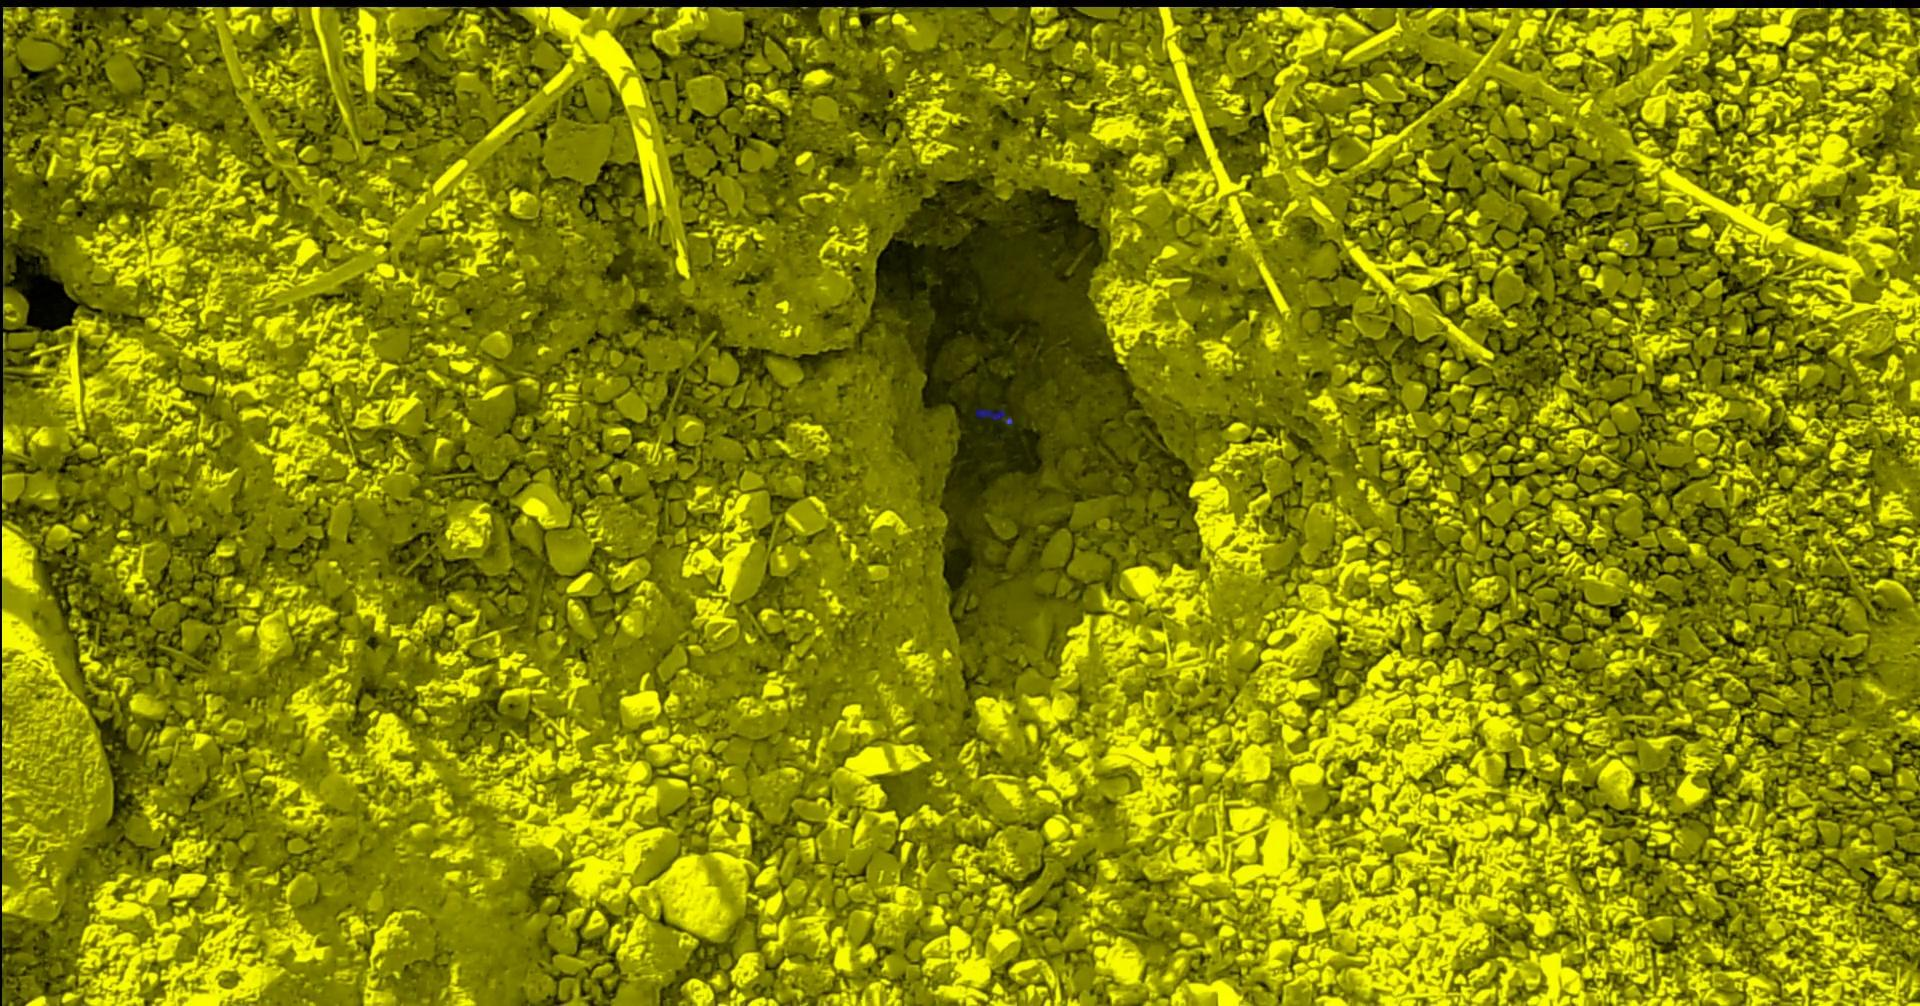ant: (975, 408, 1012, 424)
